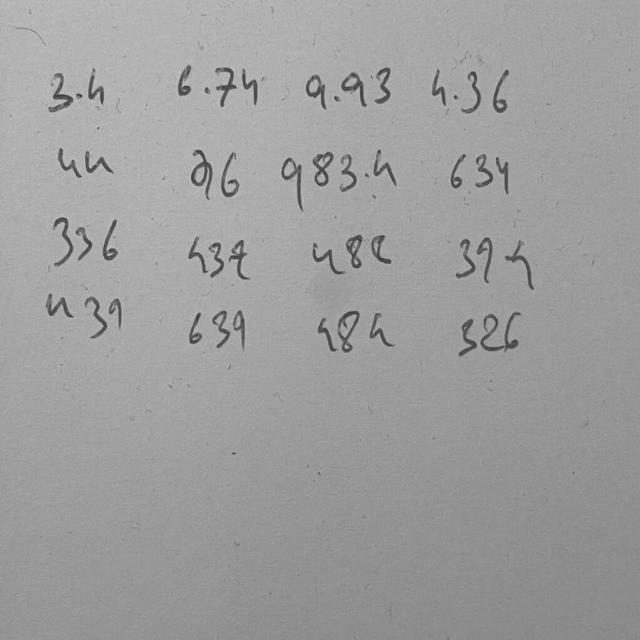Number: (282, 148, 398, 208), (45, 289, 123, 341), (456, 238, 536, 288), (305, 65, 391, 111), (432, 66, 511, 114), (177, 63, 258, 109), (51, 215, 120, 267), (311, 232, 392, 274), (317, 310, 393, 354), (187, 234, 251, 282), (449, 152, 511, 198), (48, 66, 106, 114), (459, 311, 522, 355), (189, 149, 240, 201), (188, 309, 247, 352), (56, 146, 115, 179)
